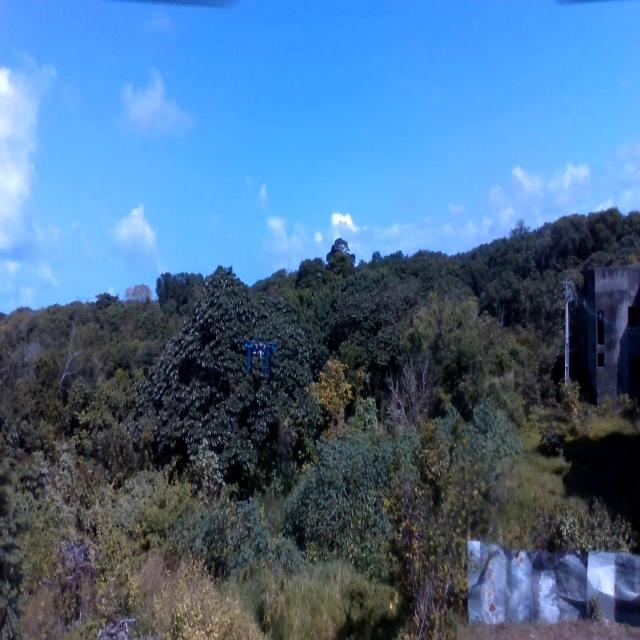-uav-: (242, 329, 274, 376)
